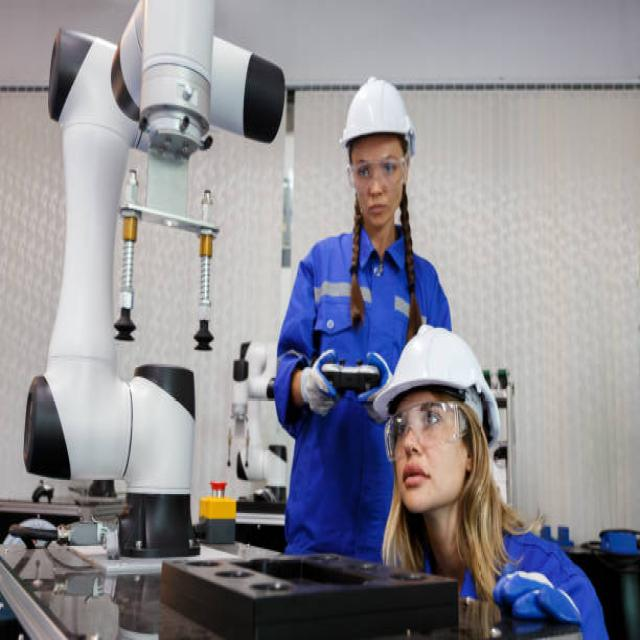Robotic-arm: (23, 0, 292, 532)
